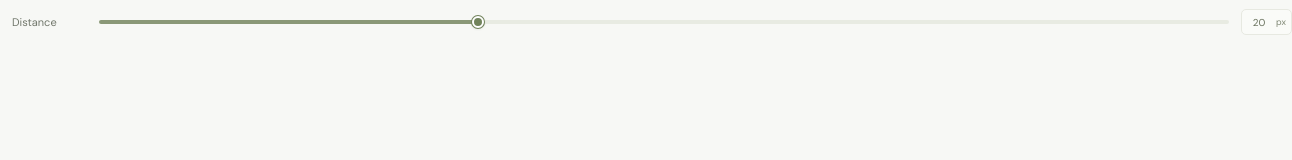
Test: RangeControl › clamps 999 to 60 on Enter
The image size is (1292, 160).
Replace the text in the number field with "999" at (1259, 22), box [1242, 10, 1276, 34]
Then press Enter
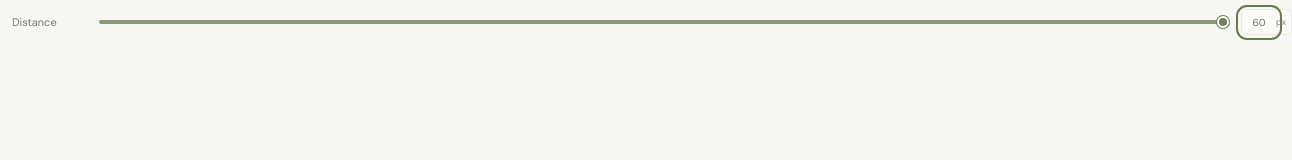
Result: the number field holds "60" at [1242, 10, 1276, 34]
